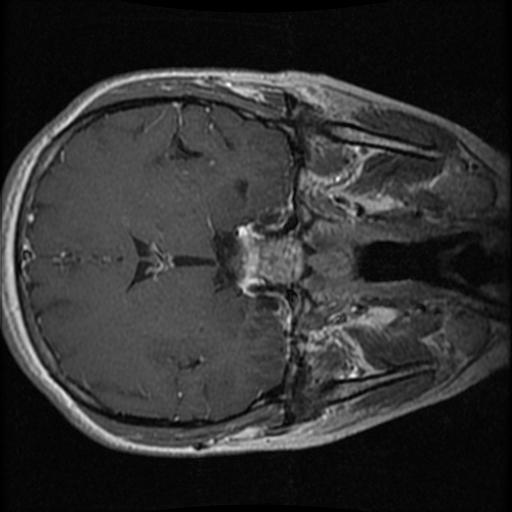pituitary tumour: (234, 225, 261, 287)
